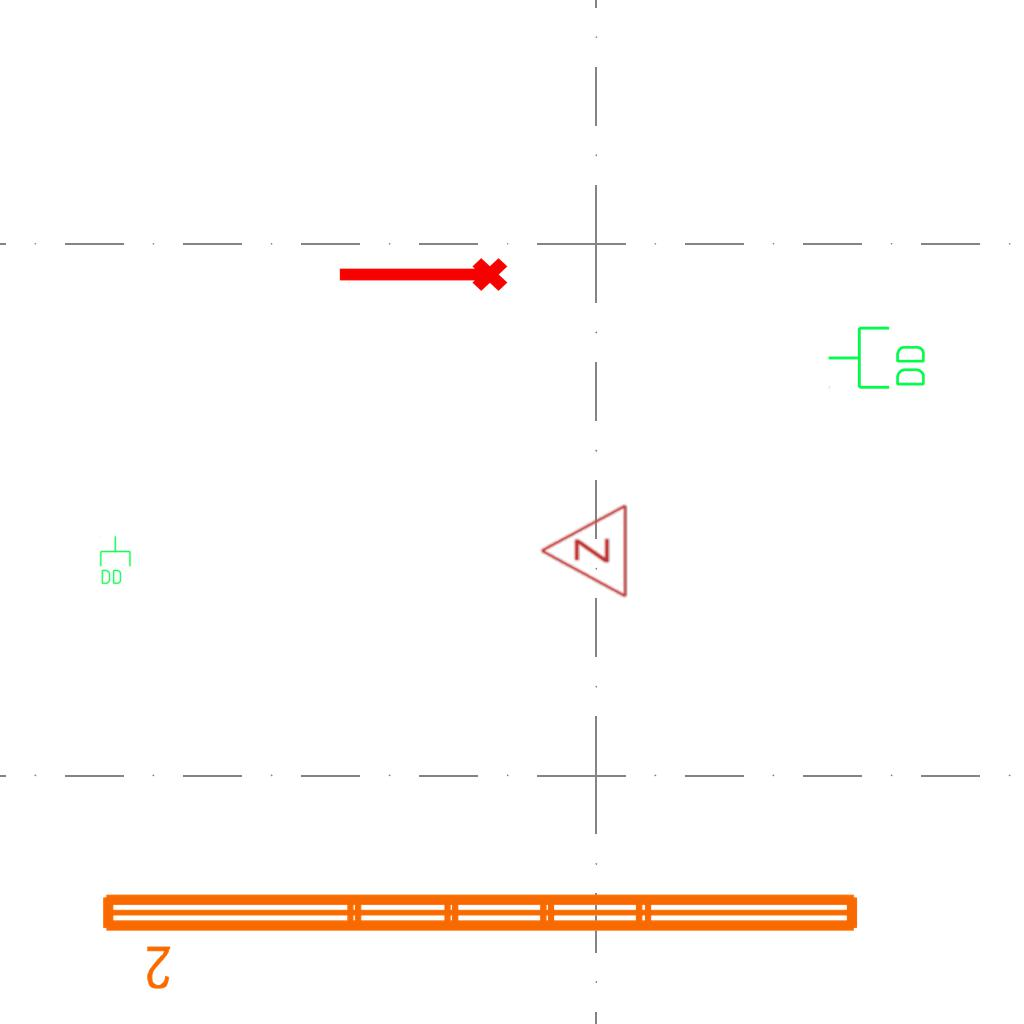ASR_Ansaugoeffnung: (334, 254, 510, 300)
Ambulanz_Pendelleuchte_LED: (94, 882, 868, 994)
Datenanschluss_zweifach: (826, 324, 929, 393), (98, 535, 132, 586)
Zimmersignalleuchte: (534, 503, 634, 601)
